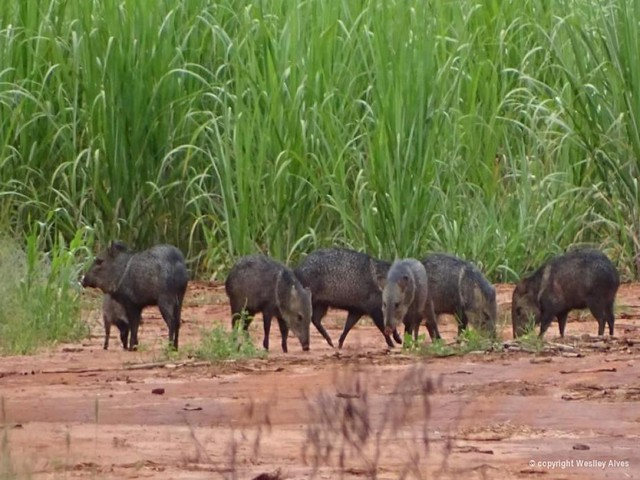Pig: (221, 246, 634, 349), (80, 238, 191, 353)
